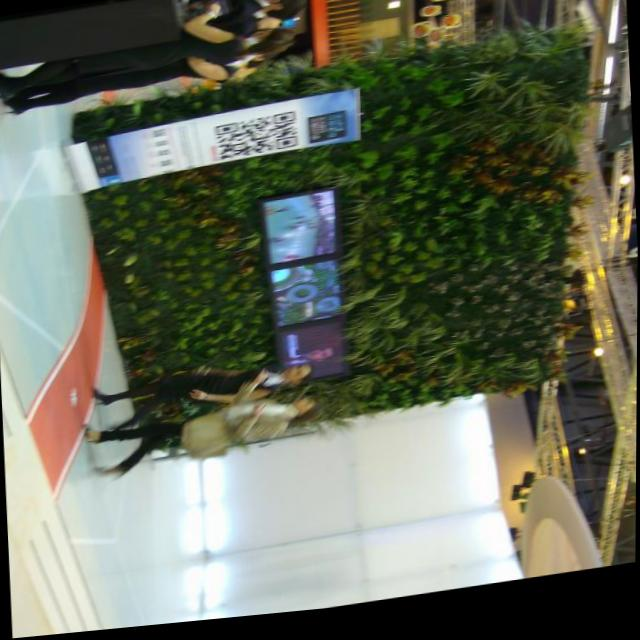qrcode: (215, 117, 300, 166)
